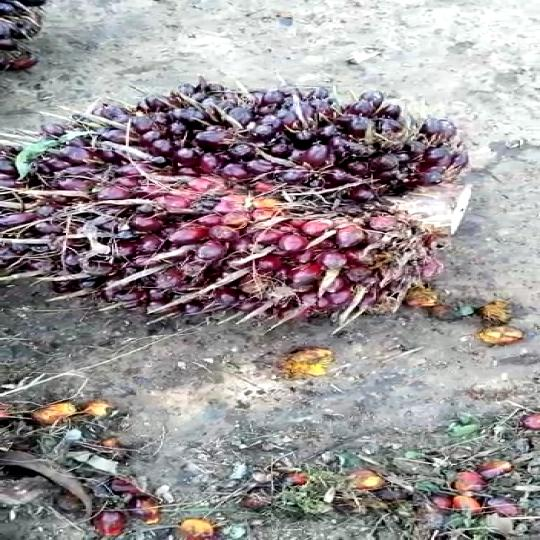kurang masak: (0, 74, 494, 348)
